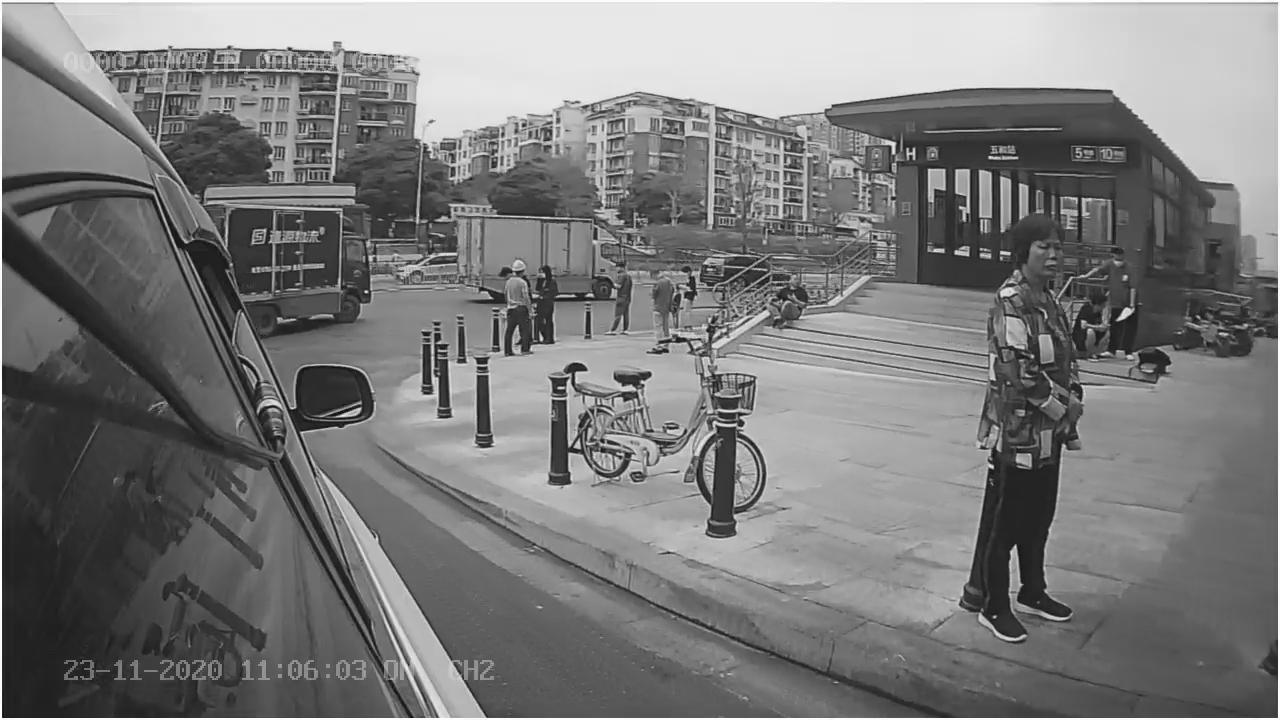person: (970, 205, 1080, 646)
